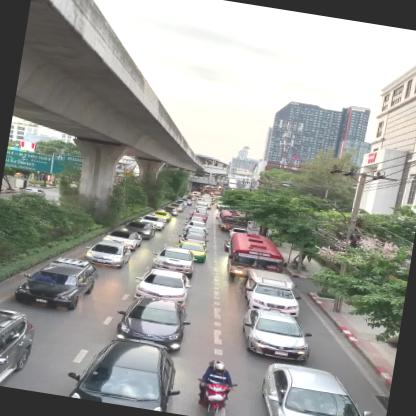bus: (221, 231, 284, 290)
car: (66, 329, 186, 413), (256, 359, 389, 415), (12, 249, 93, 311), (112, 292, 192, 354), (239, 308, 307, 363), (242, 267, 304, 317), (129, 265, 190, 306), (150, 242, 198, 274), (82, 238, 128, 270), (101, 226, 142, 252), (170, 240, 206, 264), (121, 220, 156, 240)
motorcycle: (194, 357, 236, 415)
